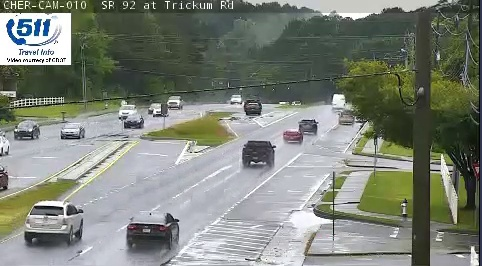car: (24, 201, 83, 237), (127, 212, 180, 244), (241, 140, 275, 164), (283, 129, 302, 143), (299, 120, 317, 133)
